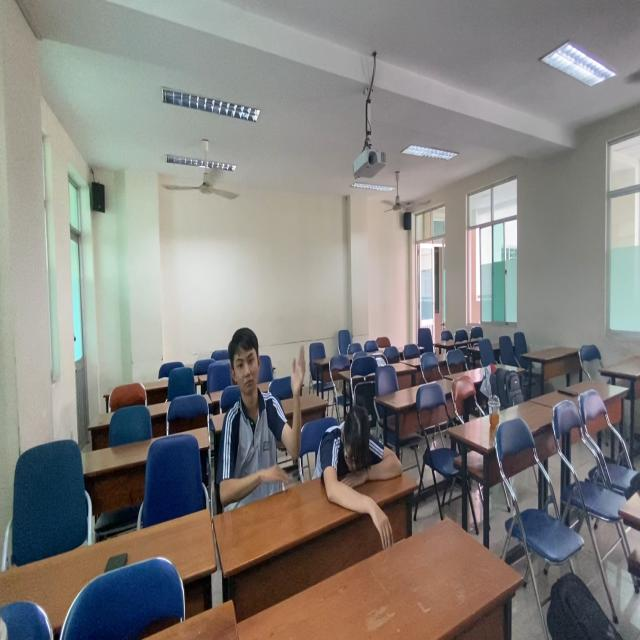raise_hand: (219, 317, 313, 508)
sleep: (312, 403, 412, 497)
